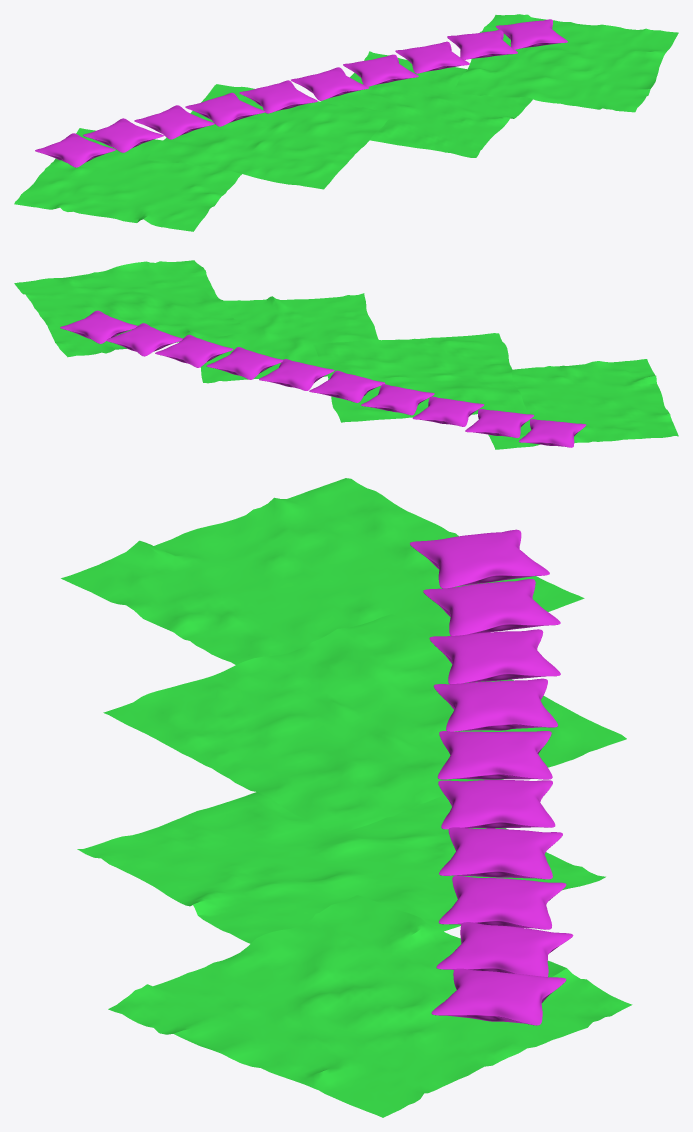
Rendered from blankets.fbx.
3 views of the same model, one above another, from view 1: azimuth 30°, elevation 25°; view 2: azimuth 150°, elevation 25°; view 3: azimuth 270°, elevation 25° (orthographic). The views are drawn at different scales.
Visible parts, largest first — view 1: Blankets, Cube.001, Cube.005, Cube, Cube.003, Cube.002, Cube.009, Cube.007, Cube.006, Cube.004, Cube.008; view 2: Blankets, Cube.006, Cube.009, Cube, Cube.003, Cube.007, Cube.002, Cube.004, Cube.001, Cube.005, Cube.008; view 3: Blankets, Cube.008, Cube.005, Cube.001, Cube.009, Cube.002, Cube.006, Cube.007, Cube, Cube.003, Cube.004.
Part boxes in pixels (<box>): Blankets: <box>14,14,678,231</box>; Cube.001: <box>239,80,317,113</box>; Cube.005: <box>185,92,265,126</box>; Cube: <box>291,67,369,100</box>; Cube.003: <box>395,41,469,73</box>; Cube.002: <box>343,54,418,86</box>; Cube.009: <box>35,133,115,167</box>; Cube.007: <box>83,118,163,152</box>; Cube.006: <box>134,105,214,139</box>; Cube.004: <box>447,30,517,59</box>; Cube.008: <box>495,19,567,49</box>; Blankets: <box>14,260,678,449</box>; Cube.006: <box>412,396,484,426</box>; Cube.009: <box>519,419,586,447</box>; Cube: <box>259,359,334,390</box>; Cube.003: <box>155,334,233,367</box>; Cube.007: <box>465,409,533,437</box>; Cube.002: <box>206,347,283,379</box>; Cube.004: <box>106,323,182,356</box>; Cube.001: <box>309,370,385,402</box>; Cube.005: <box>361,384,434,415</box>; Cube.008: <box>60,310,137,343</box>; Blankets: <box>61,478,632,1117</box>; Cube.008: <box>431,968,566,1025</box>; Cube.005: <box>433,678,557,731</box>; Cube.001: <box>437,731,552,779</box>; Cube.009: <box>410,529,549,588</box>; Cube.002: <box>439,827,562,879</box>; Cube.006: <box>429,629,560,684</box>; Cube.007: <box>423,579,560,635</box>; Cube: <box>438,780,555,829</box>; Cube.003: <box>438,875,566,929</box>; Cube.004: <box>436,922,573,976</box>.
Size of the model in its own units: 7738 by 114 by 2924.
